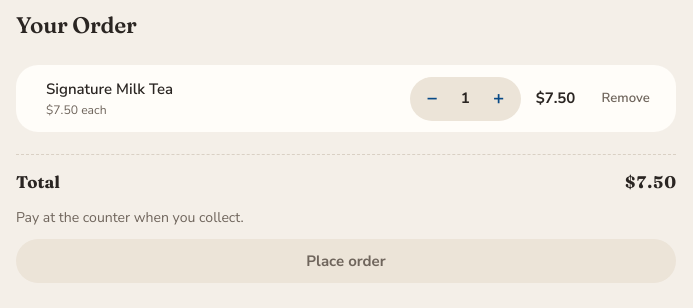
OrderPanel cart › removes a line when its quantity would drop below one
Click the button named "Remove one Signature Milk Tea": (432, 98) [410,76,454,120]
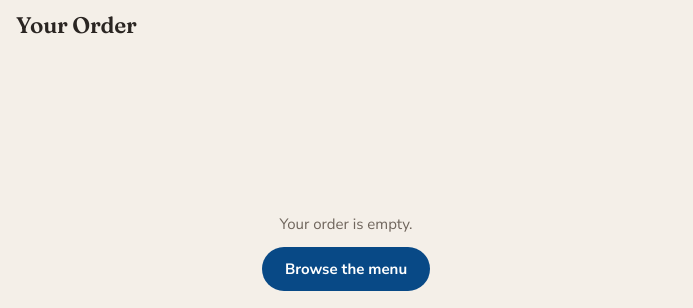
Now the text "Your order is empty." is shown, box [280,213,413,236]
